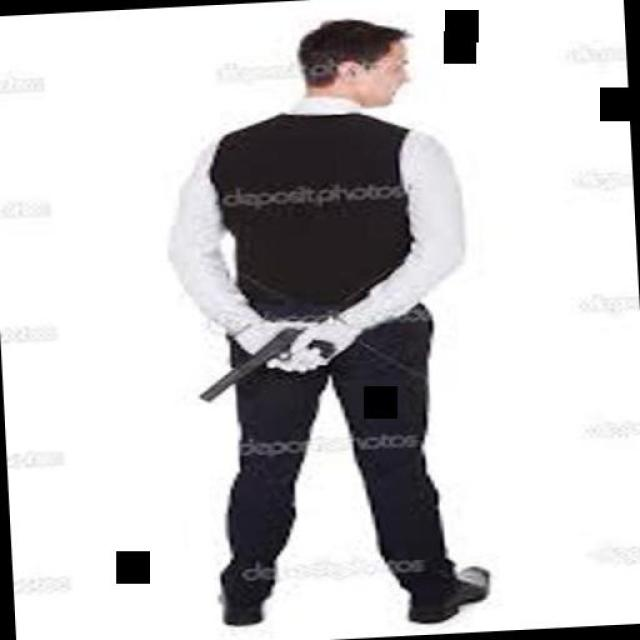gun: (187, 325, 345, 403)
